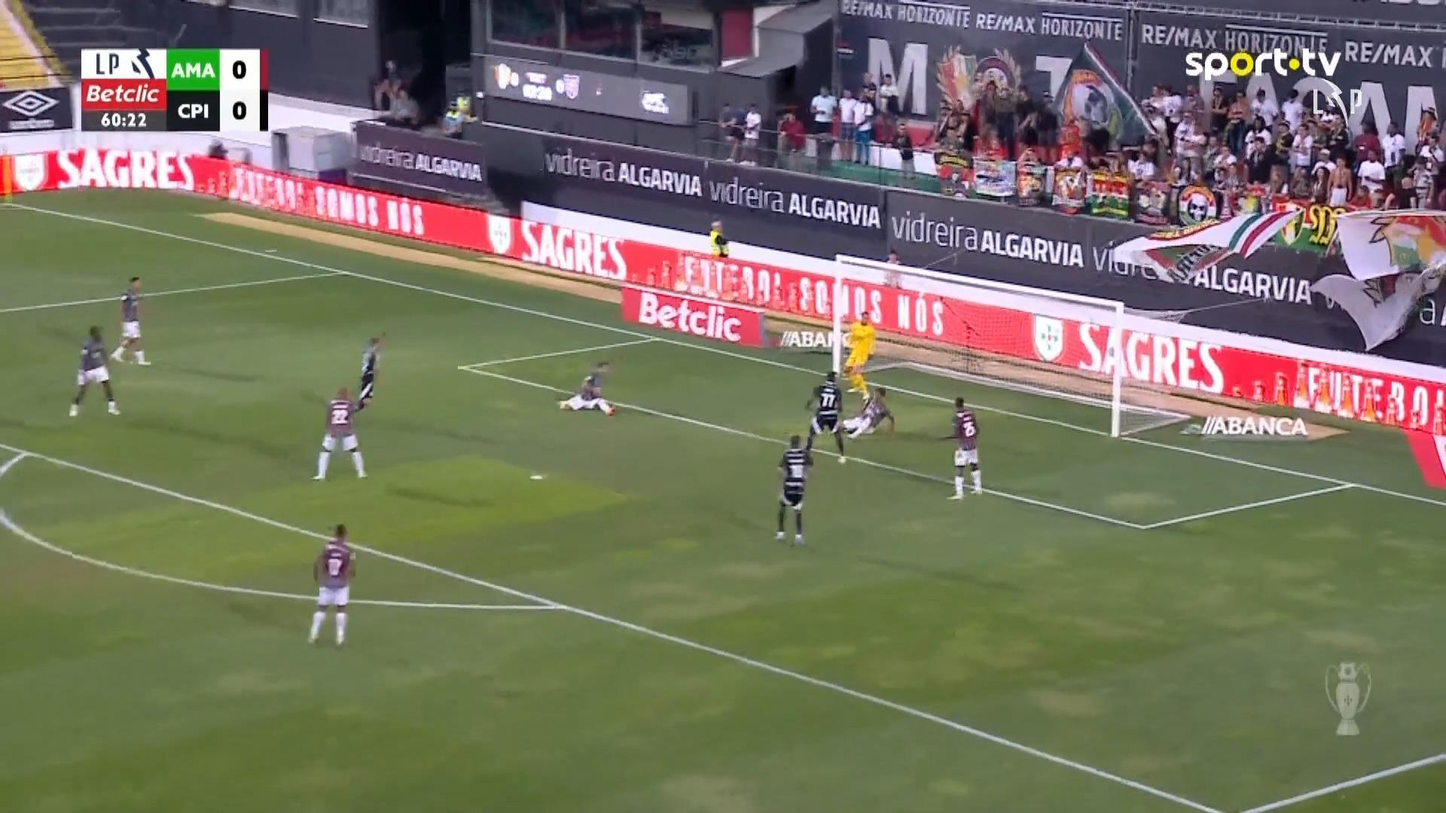ball: (1069, 81, 1109, 128), (1082, 88, 1108, 124)
goalkeeper: (840, 309, 876, 406)
player: (307, 522, 356, 647), (310, 385, 370, 480), (68, 324, 121, 416), (773, 432, 813, 546), (804, 370, 847, 464), (945, 395, 982, 500), (108, 276, 151, 365), (557, 359, 615, 416), (840, 387, 895, 439), (357, 335, 383, 403)
